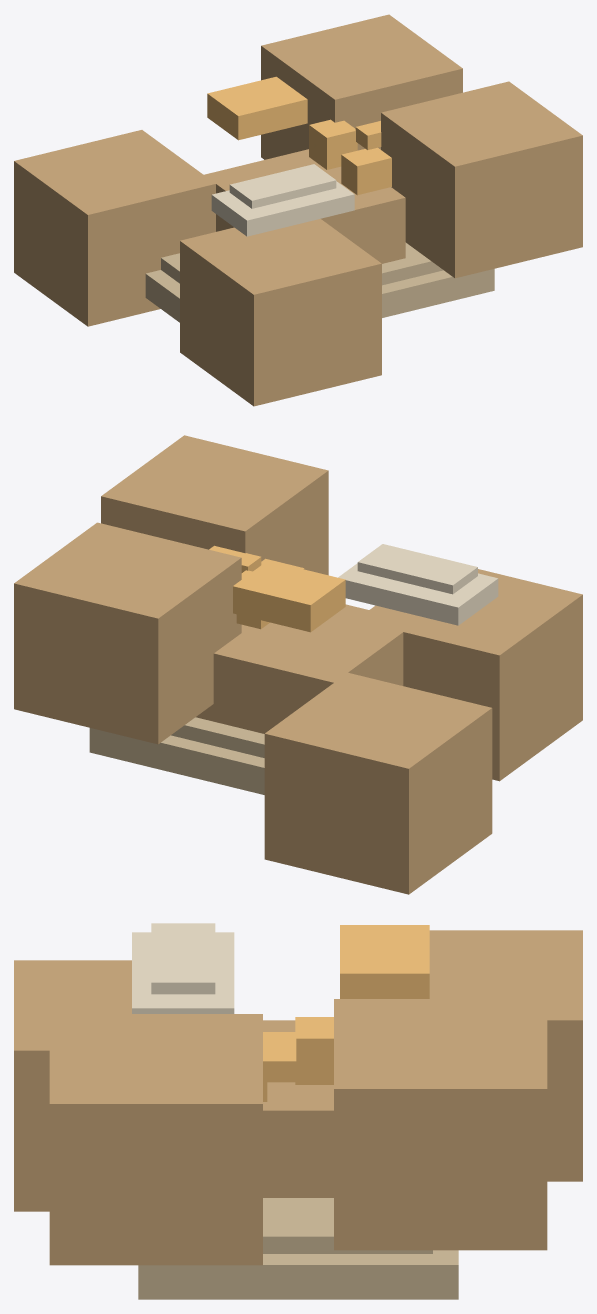
The model's file is product_fish_cake.glb.
3 views of the same model, one above another, from view 1: azimuth 30°, elevation 25°; view 2: azimuth 150°, elevation 25°; view 3: azimuth 270°, elevation 25° (orthographic). The views are drawn at different scales.
Visible parts, largest first — view 1: ProductArt_body, ProductArt_label, ProductArt_accent, ProductArt_platter, ProductArt_garnish; view 2: ProductArt_body, ProductArt_label, ProductArt_platter, ProductArt_accent, ProductArt_garnish; view 3: ProductArt_body, ProductArt_platter, ProductArt_accent, ProductArt_label, ProductArt_garnish.
Boxes of the visible parts, bbox=[...] form: ProductArt_body: bbox=[14, 14, 582, 406]; ProductArt_label: bbox=[211, 164, 354, 236]; ProductArt_accent: bbox=[207, 76, 357, 169]; ProductArt_platter: bbox=[145, 242, 494, 322]; ProductArt_garnish: bbox=[341, 121, 391, 195]; ProductArt_body: bbox=[14, 435, 582, 894]; ProductArt_label: bbox=[338, 544, 498, 625]; ProductArt_platter: bbox=[89, 717, 264, 794]; ProductArt_accent: bbox=[233, 560, 345, 632]; ProductArt_garnish: bbox=[209, 545, 304, 572]; ProductArt_body: bbox=[14, 930, 582, 1265]; ProductArt_platter: bbox=[138, 1198, 458, 1299]; ProductArt_accent: bbox=[295, 925, 429, 1084]; ProductArt_label: bbox=[132, 923, 234, 1013]; ProductArt_garnish: bbox=[263, 1032, 296, 1101].
Size of the model in its own units: 0.24 by 0.1097 by 0.2133.
